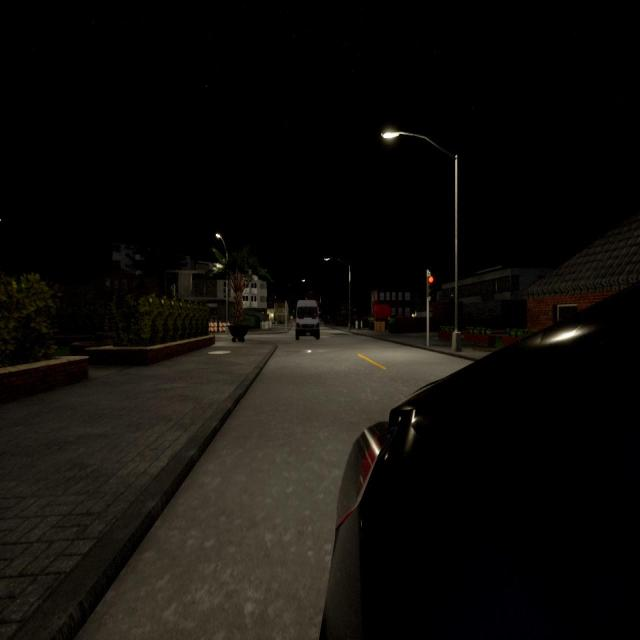Vehicle: (318, 282, 640, 638), (296, 300, 320, 340)
traffic_light: (427, 276, 434, 297)
